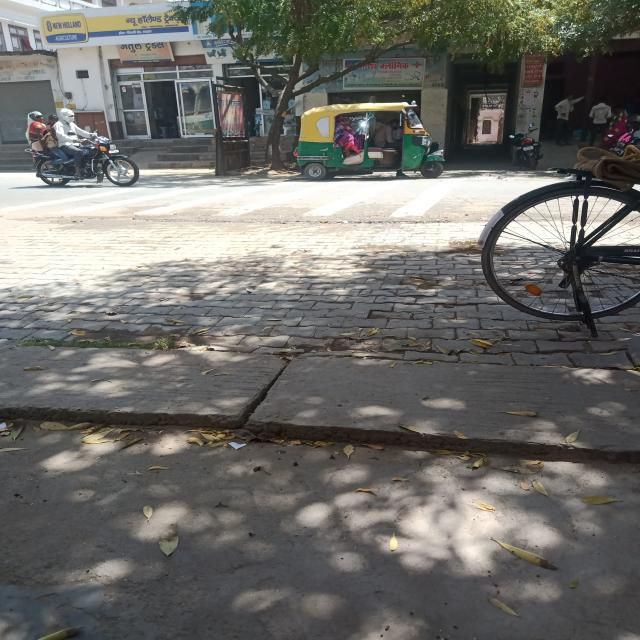Autorickshaw: (277, 92, 443, 183)
Bike: (21, 106, 151, 189), (504, 120, 545, 173)
